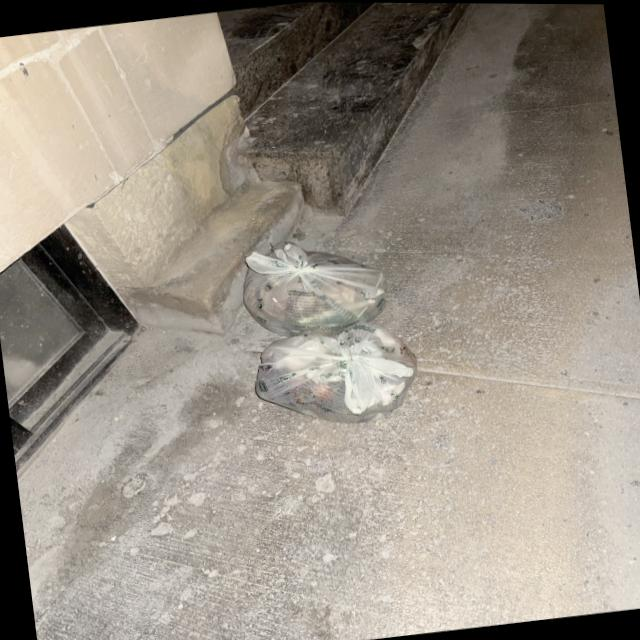Organic Waste -White Bags-: (243, 238, 416, 422)
